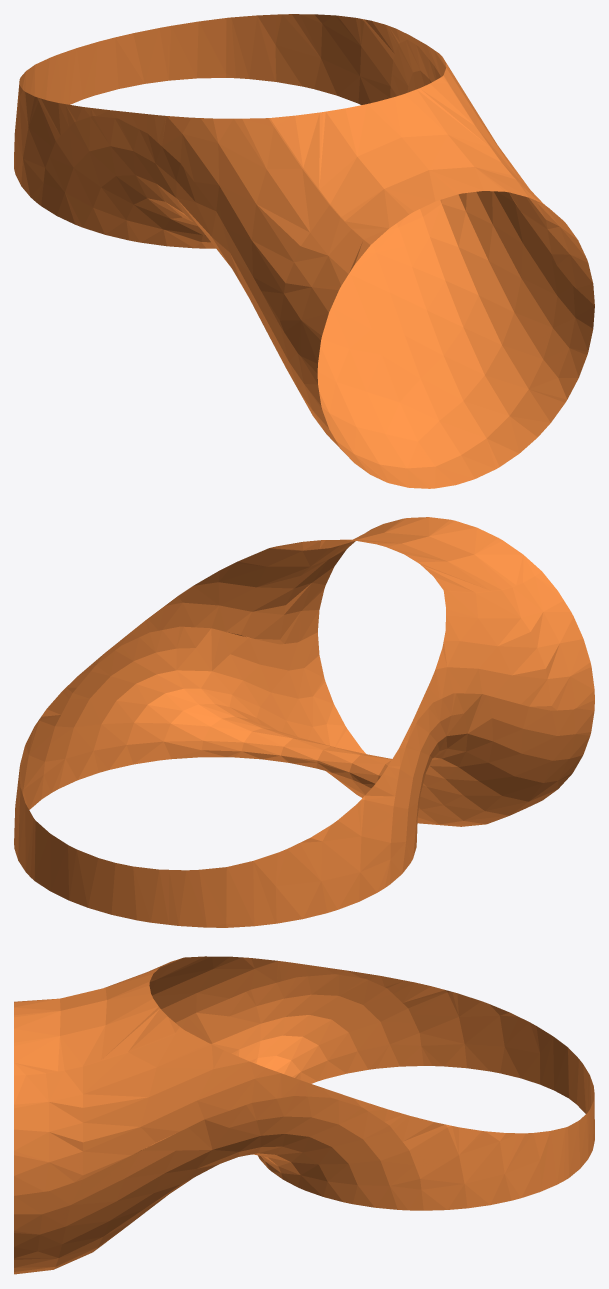
The model's file is iiwa_link_3_vis_2.obj.
3 views of the same model, one above another, from view 1: azimuth 30°, elevation 25°; view 2: azimuth 150°, elevation 25°; view 3: azimuth 270°, elevation 25° (orthographic). The views are drawn at different scales.
Parts seen in each view (by area): view 1: node; view 2: node; view 3: node.
Part boxes in pixels (x1,y1,x2,y2): node: (14,14,594,488); node: (14,517,594,927); node: (14,956,594,1274).
Bounding box in the file's own units: 0.171 × 0.1523 × 0.29.
